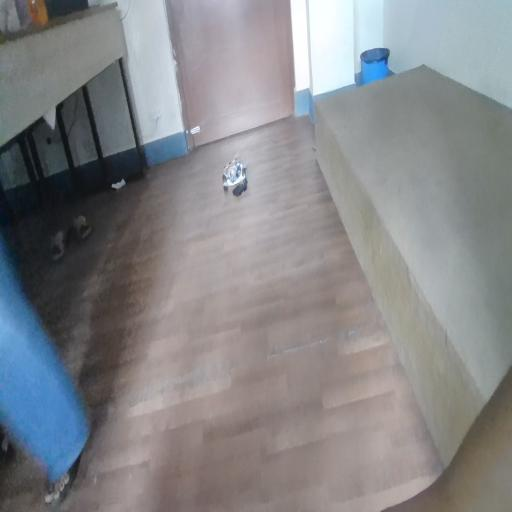car: (214, 149, 249, 233)
